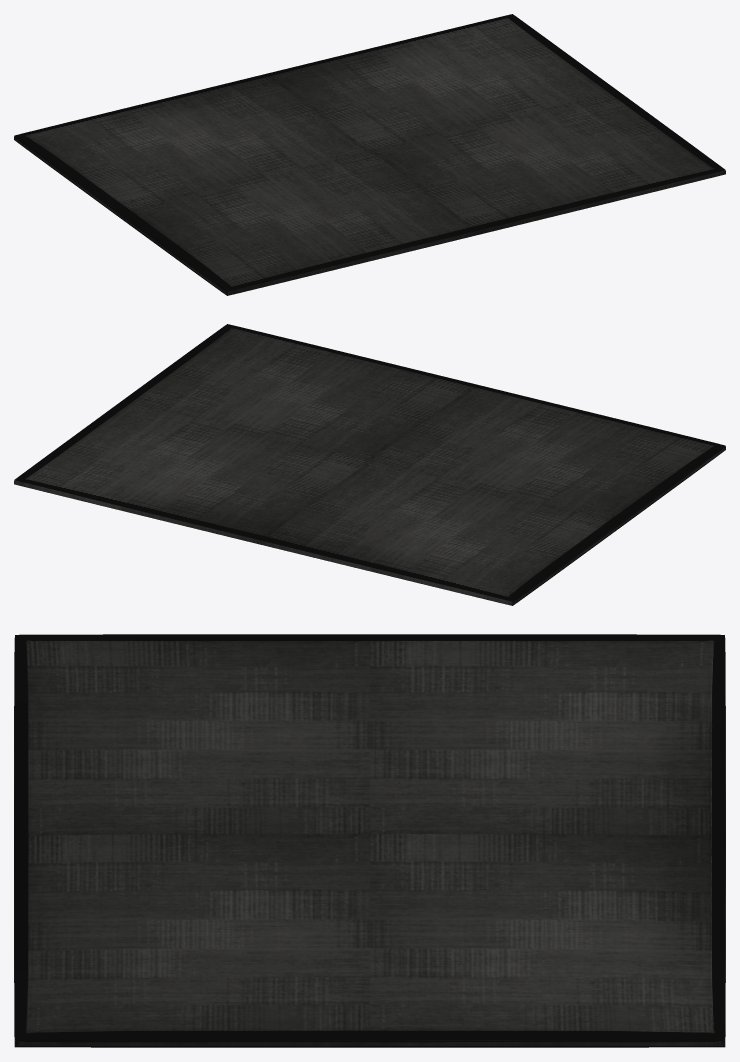
The model's file is carpet.glb.
3 views of the same model, one above another, from view 1: azimuth 30°, elevation 25°; view 2: azimuth 150°, elevation 25°; view 3: azimuth 270°, elevation 25° (orthographic). The views are drawn at different scales.
Parts seen in each view (by area): view 1: Bedroom_Carpet_0; view 2: Bedroom_Carpet_0; view 3: Bedroom_Carpet_0.
Part boxes in pixels (left/top/right/bottom): Bedroom_Carpet_0: left=14, top=14, right=725, bottom=295; Bedroom_Carpet_0: left=14, top=324, right=725, bottom=605; Bedroom_Carpet_0: left=14, top=634, right=725, bottom=1047.
Size of the model in its own units: 2.8 by 0.0342 by 2.08.
1 material, 1 textured.
